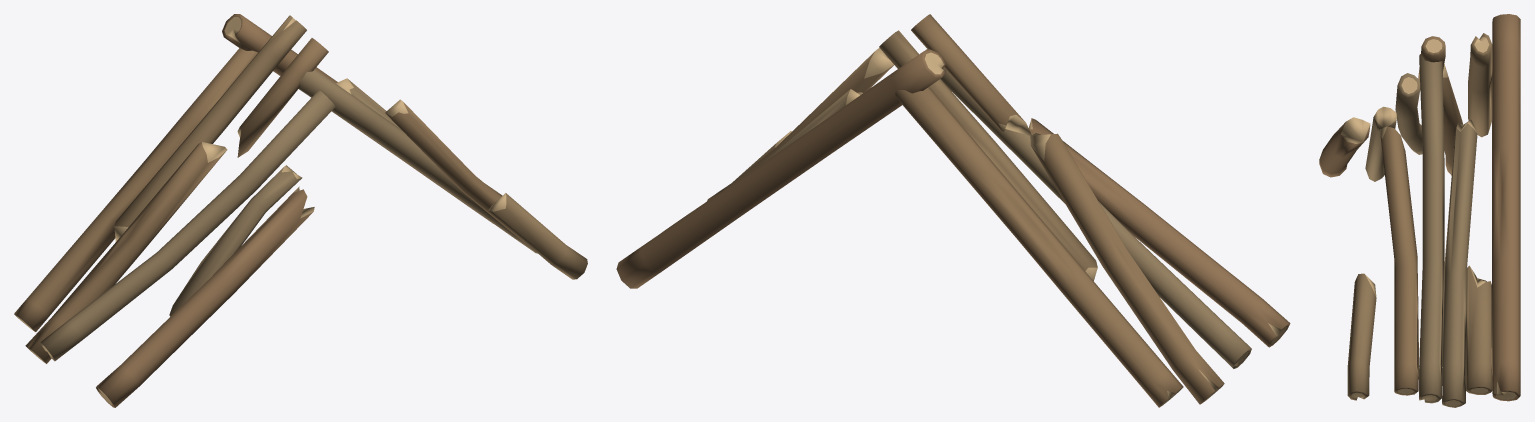
File: rpgpp_av_roof_01_6x3x3_c.gltf
3 renders of one model, left to right at view 1: azimuth 30°, elevation 25°; view 2: azimuth 150°, elevation 25°; view 3: azimuth 270°, elevation 25°, orthographic. The views are drawn at different scales.
Visible parts, largest first — view 1: rpgpp_av_roof_01_6x3x3_c; view 2: rpgpp_av_roof_01_6x3x3_c; view 3: rpgpp_av_roof_01_6x3x3_c.
Part boxes in pixels (x1,y1,x2,y2): rpgpp_av_roof_01_6x3x3_c: (14,14,587,407); rpgpp_av_roof_01_6x3x3_c: (616,14,1290,407); rpgpp_av_roof_01_6x3x3_c: (1319,14,1520,407).
Bounding box in the file's own units: 0.087 × 0.0443 × 0.03.
Materials: 1 (1 with a texture image).
